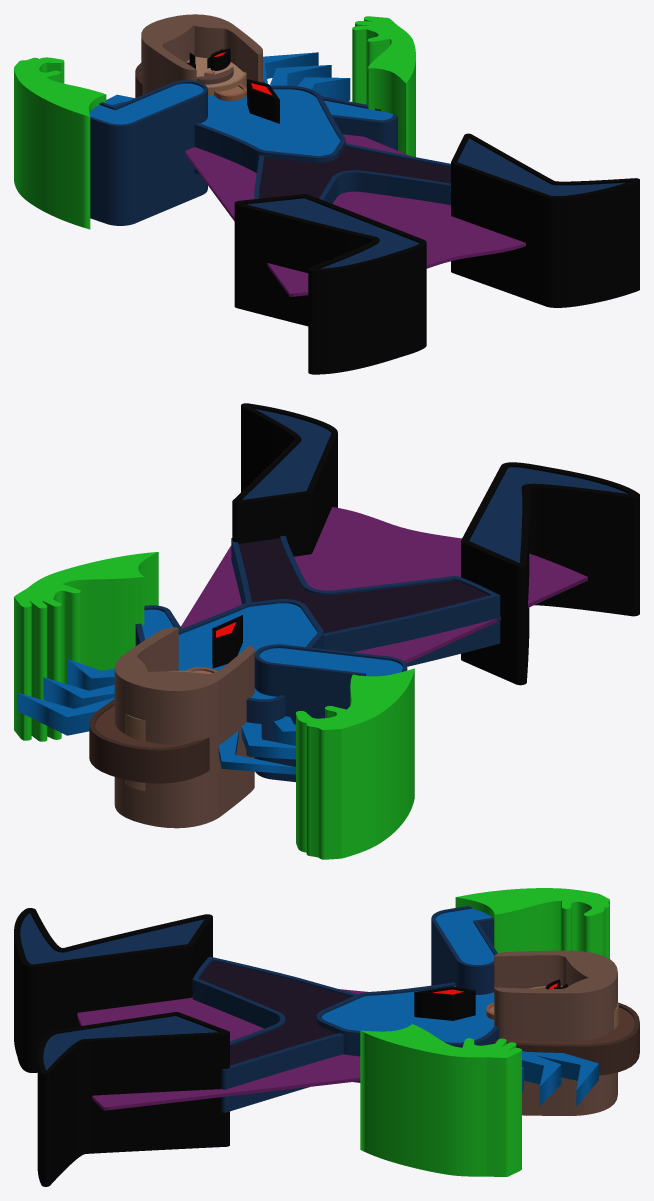
Rendered from emoji_u1f9b9_1f3fd_200d_2640.glb.
3 renders of one model, top to bottom at view 1: azimuth 30°, elevation 25°; view 2: azimuth 150°, elevation 25°; view 3: azimuth 270°, elevation 25°, orthographic. The views are drawn at different scales.
Visible parts, largest first — view 1: emoji_u1f9b9_1f3fd_200d_2640; view 2: emoji_u1f9b9_1f3fd_200d_2640; view 3: emoji_u1f9b9_1f3fd_200d_2640.
Boxes of the visible parts, <box> form: emoji_u1f9b9_1f3fd_200d_2640: <box>14,14,639,374</box>; emoji_u1f9b9_1f3fd_200d_2640: <box>14,403,639,859</box>; emoji_u1f9b9_1f3fd_200d_2640: <box>14,888,639,1186</box>.
Bounding box in the file's own units: 0.0239 × 0.0074 × 0.0343.
